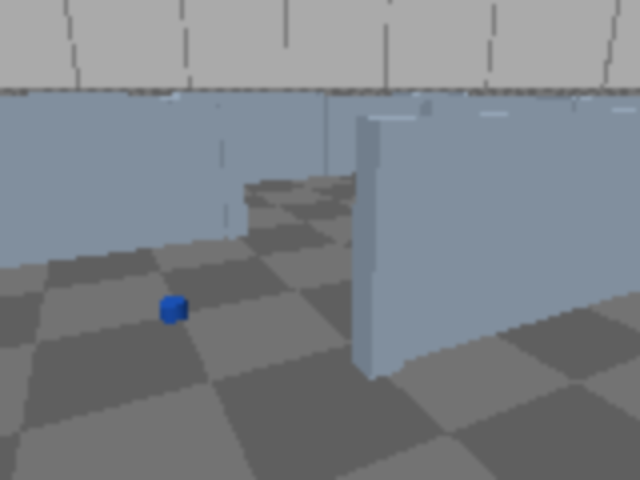puck: (160, 297, 187, 321)
